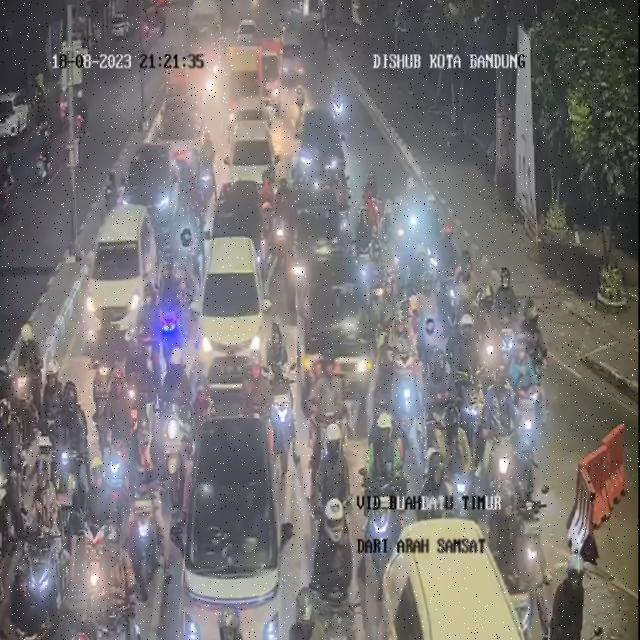cars: (185, 411, 287, 640), (376, 510, 537, 640), (297, 238, 377, 410), (193, 235, 264, 398), (84, 204, 154, 348), (288, 162, 338, 293), (211, 174, 269, 278), (130, 140, 181, 246), (230, 114, 278, 203), (296, 106, 342, 187), (161, 103, 200, 175), (283, 28, 306, 84)
motorcycle: (21, 438, 65, 640), (361, 412, 405, 578), (73, 499, 117, 640), (312, 508, 358, 640), (512, 295, 546, 465), (317, 424, 354, 580), (99, 364, 133, 520), (130, 454, 164, 598), (63, 381, 94, 518), (313, 357, 350, 463), (372, 330, 410, 433), (7, 313, 40, 421), (269, 321, 294, 460), (163, 346, 194, 458), (130, 404, 158, 524), (94, 307, 127, 406), (392, 172, 424, 274), (123, 325, 155, 421), (388, 307, 412, 425), (379, 409, 407, 500), (160, 258, 182, 364), (419, 274, 443, 368), (427, 345, 455, 419), (138, 289, 162, 374), (438, 206, 465, 272), (455, 264, 476, 344), (425, 452, 452, 514), (271, 179, 293, 253), (247, 356, 272, 421), (176, 222, 199, 292), (394, 302, 416, 368), (387, 185, 404, 269), (494, 263, 518, 320), (210, 608, 252, 640), (187, 170, 205, 240), (331, 78, 350, 139), (200, 133, 218, 197), (356, 200, 372, 270), (180, 204, 199, 260), (369, 193, 384, 263), (361, 166, 380, 219), (368, 175, 382, 238), (340, 169, 353, 228)
truck: (226, 47, 265, 120), (187, 32, 218, 111)
